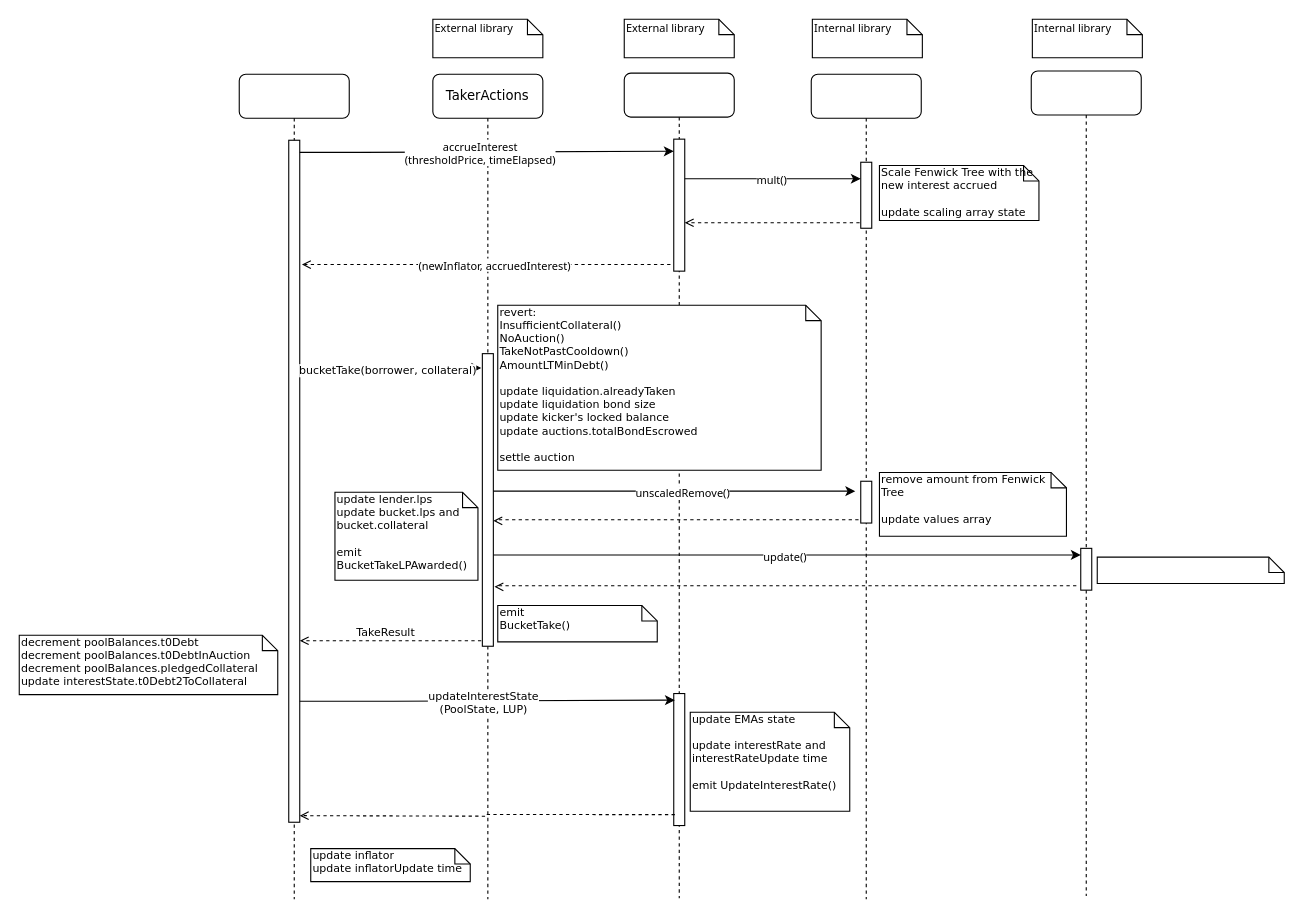
The diagram is 1304 pixels wide and 919 high, and some of its shapes have lost their labels. The box of each missing label's shape, as (x1, y1, x2, y2) in pixels:
Deposits: (810, 73, 921, 899)
insert, update or remove loan: (1096, 556, 1284, 584)
Loans: (1030, 70, 1141, 896)
Pool: (238, 73, 349, 899)
PoolCommons: (623, 72, 734, 898)
